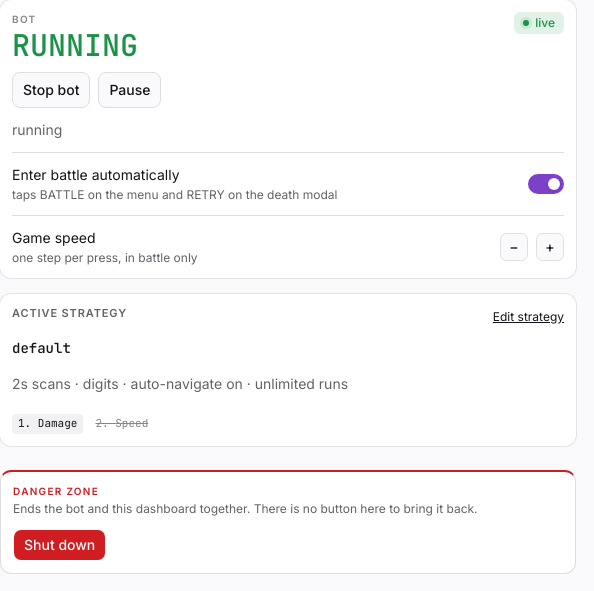
Test: ControlPage › renders the server's returned pause state, not an optimistic flip
Click the button "Pause" at [130, 90], box [98, 72, 162, 108]
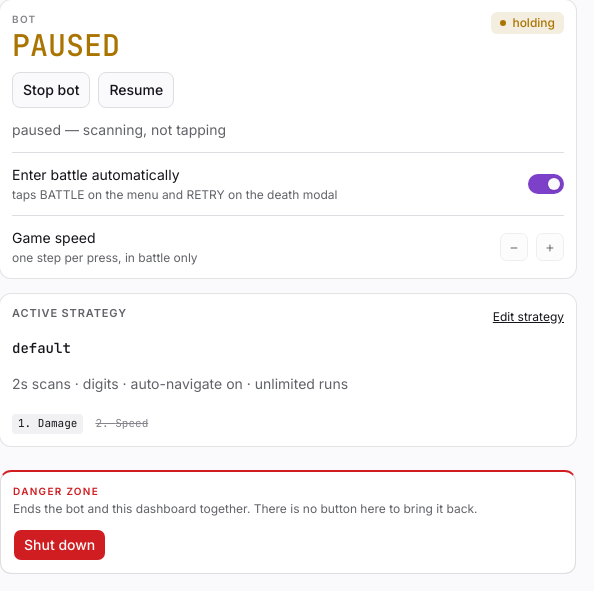
Check: the button "Resume" is shown, box [98, 72, 174, 108]
Check: the text "paused — scanning, not tapping" is shown, box [12, 121, 226, 138]
